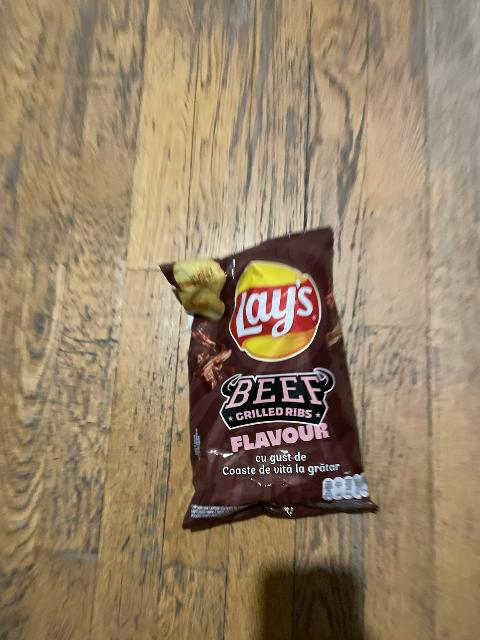Lays Beef Grilled Ribs 125g: (160, 233, 379, 524)
